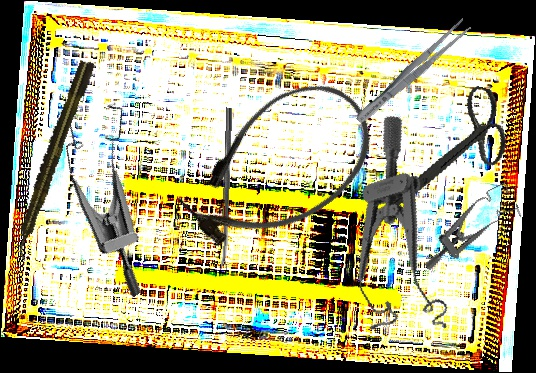Cannula: (161, 60, 395, 274)
Dressing Forceps: (351, 16, 474, 128)
Handpiece: (7, 57, 98, 261)
Iris Scissors: (381, 70, 520, 240)
Speculum: (25, 85, 214, 300), (308, 111, 469, 353), (408, 181, 527, 272)
Surgical Spoon: (219, 107, 233, 270)
